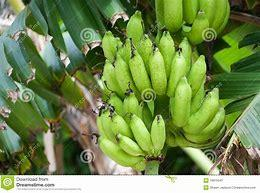banana: (91, 19, 231, 159), (154, 0, 233, 45)
